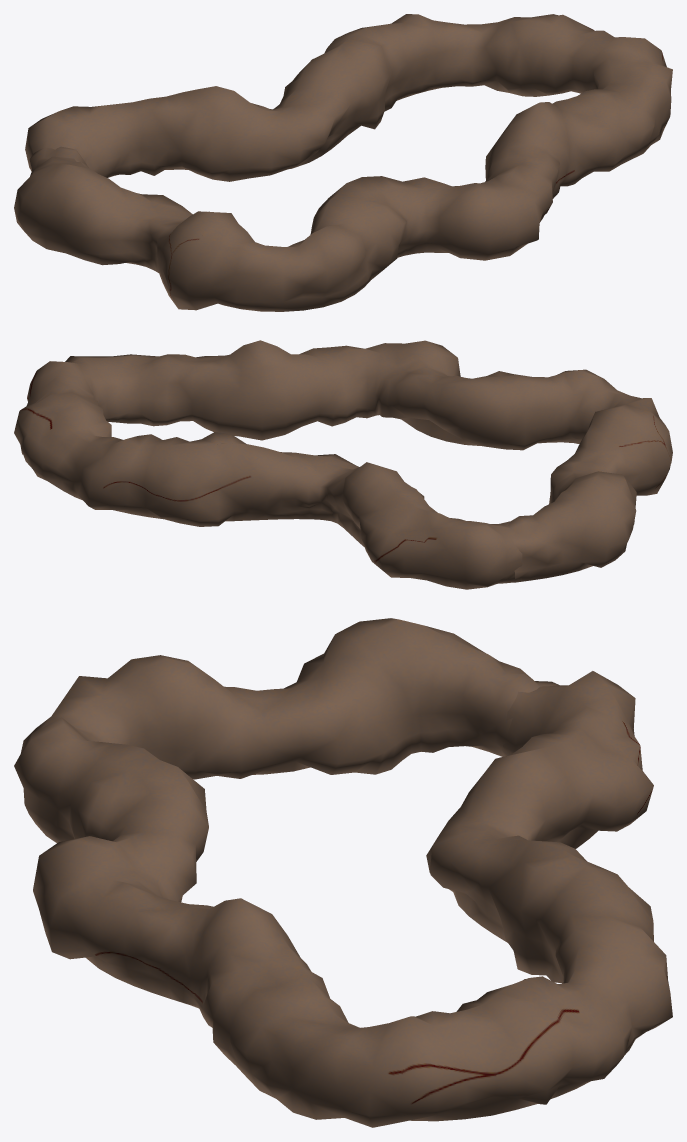
Rendered from cave.dae.
The picture shows the model from 3 angles, top to bottom: view 1: azimuth 30°, elevation 25°; view 2: azimuth 150°, elevation 25°; view 3: azimuth 270°, elevation 25°; orthographic projection. The views are drawn at different scales.
Parts seen in each view (by area): view 1: Modified; view 2: Modified; view 3: Modified.
Part boxes in pixels (<box>): Modified: <box>14,14,672,311</box>; Modified: <box>14,340,672,589</box>; Modified: <box>14,618,672,1127</box>.
Bounding box in the file's own units: 17.69 × 11.21 × 2.37.
Materials: 1 (1 with a texture image).
